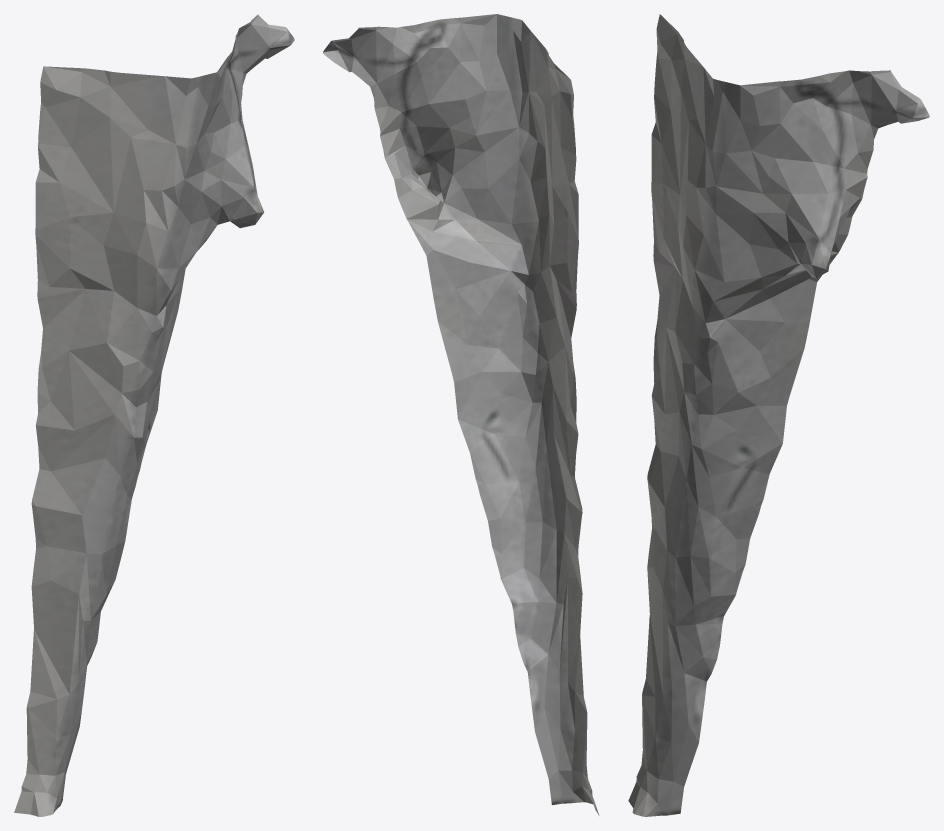
3 renders of one model, left to right at view 1: azimuth 30°, elevation 25°; view 2: azimuth 150°, elevation 25°; view 3: azimuth 330°, elevation 25°, orthographic. The views are drawn at different scales.
Bounding box in the file's own units: 0.3323 × 0.8374 × 0.1017.
1 material, 1 textured.
